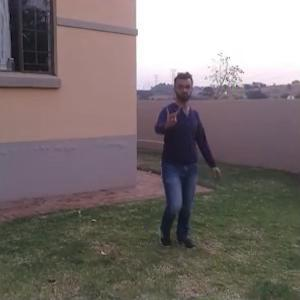takeoff-hand: (161, 100, 185, 130)
